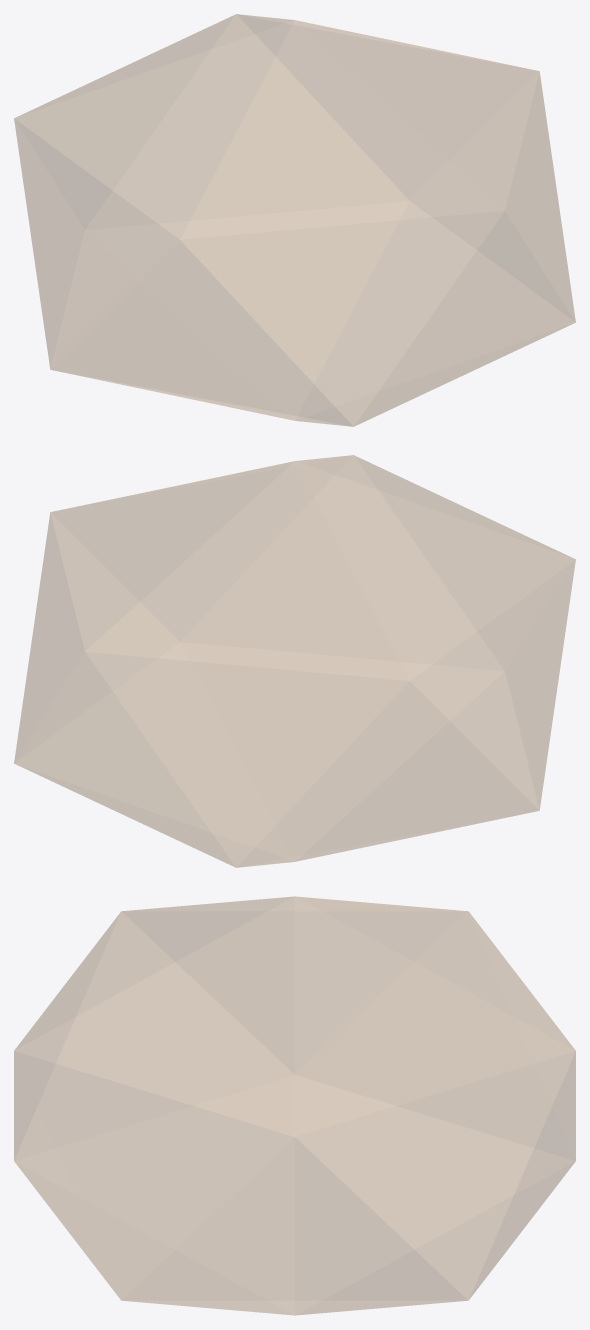
File: dust.glb
3 renders of one model, top to bottom at view 1: azimuth 30°, elevation 25°; view 2: azimuth 150°, elevation 25°; view 3: azimuth 270°, elevation 25°, orthographic. The views are drawn at different scales.
Parts seen in each view (by area): view 1: DustMesh; view 2: DustMesh; view 3: DustMesh.
Part boxes in pixels (x1,y1,x2,y2): DustMesh: (14,14,575,426); DustMesh: (14,455,575,867); DustMesh: (14,896,575,1315).
Bounding box in the file's own units: 1.79 × 1.4 × 1.7.
